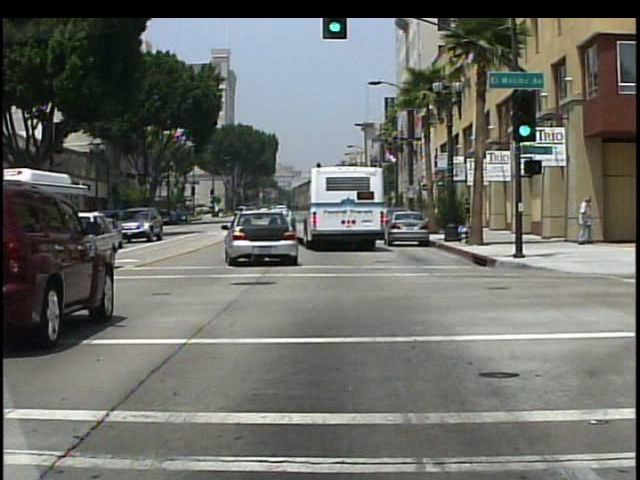person: (576, 196, 598, 246), (462, 195, 473, 236)
